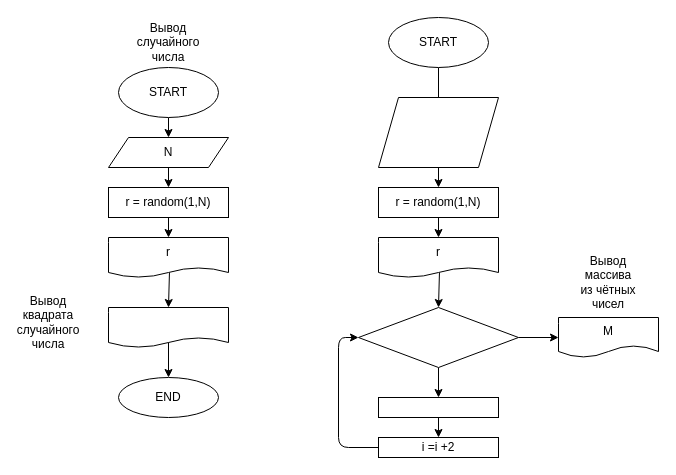
Some shapes in this 676 by 475 pixel diagram are drawn without their labels. The shapes that lost their labels are listed below. From the top down, each one's centre as x and y in pixels, then its label:
At pixel 438 132: "N M i =0 a[i] =0".
At pixel 168 327: "math.pow(r,2)".
At pixel 438 337: "i<N".
At pixel 438 407: "a[i]".
